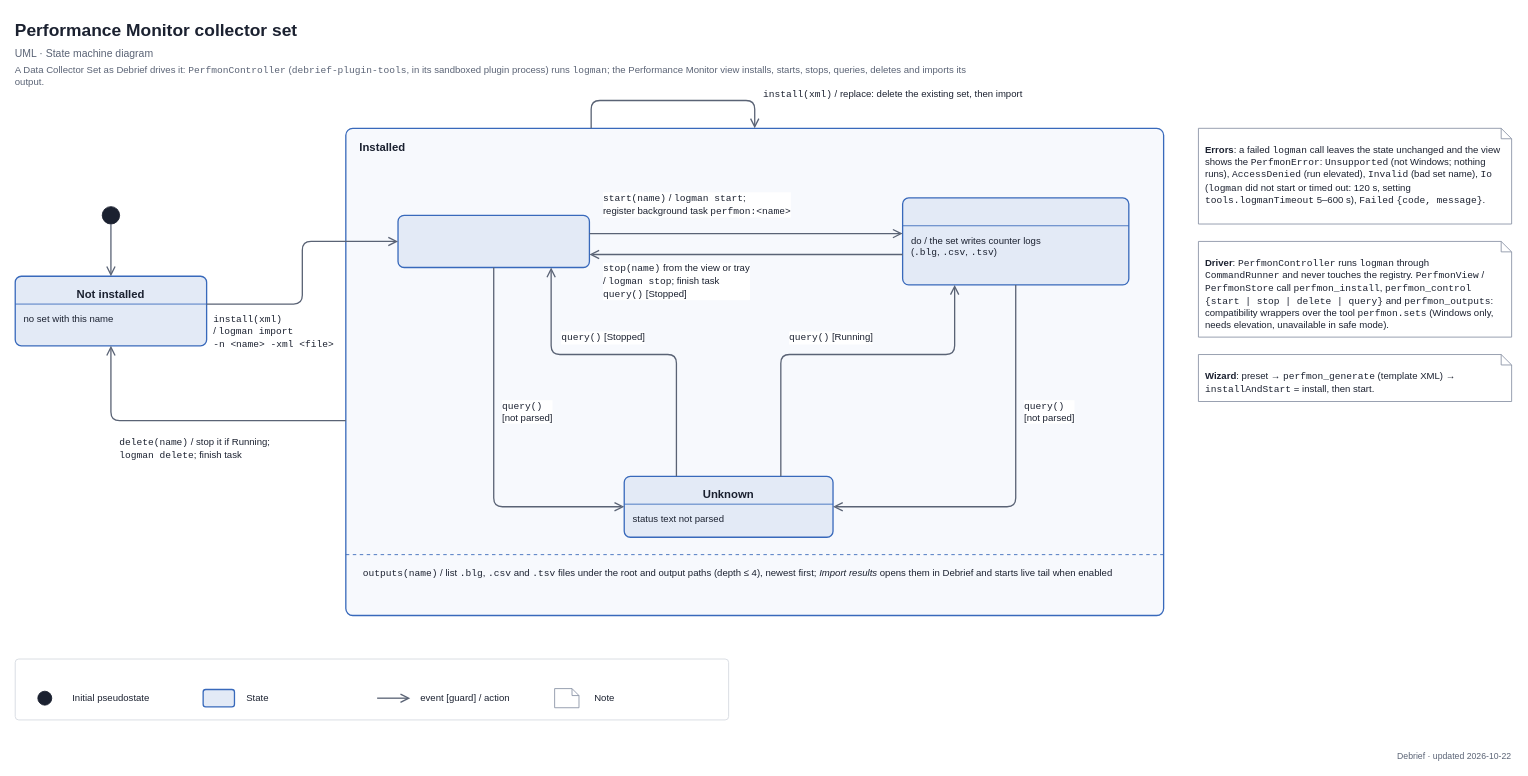
Some shapes in this 1528 by 776 pixel diagram are drawn without their labels. Here are the shapes that lost their labels. From the top down, the box of each, then its label:
(397, 214, 590, 268): Stopped
(902, 197, 1129, 285): Running
(14, 658, 729, 720): Legend
